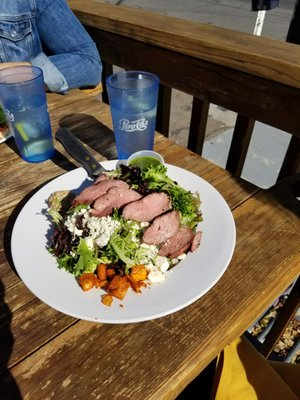pizza: (0, 63, 56, 165), (106, 71, 160, 159)
